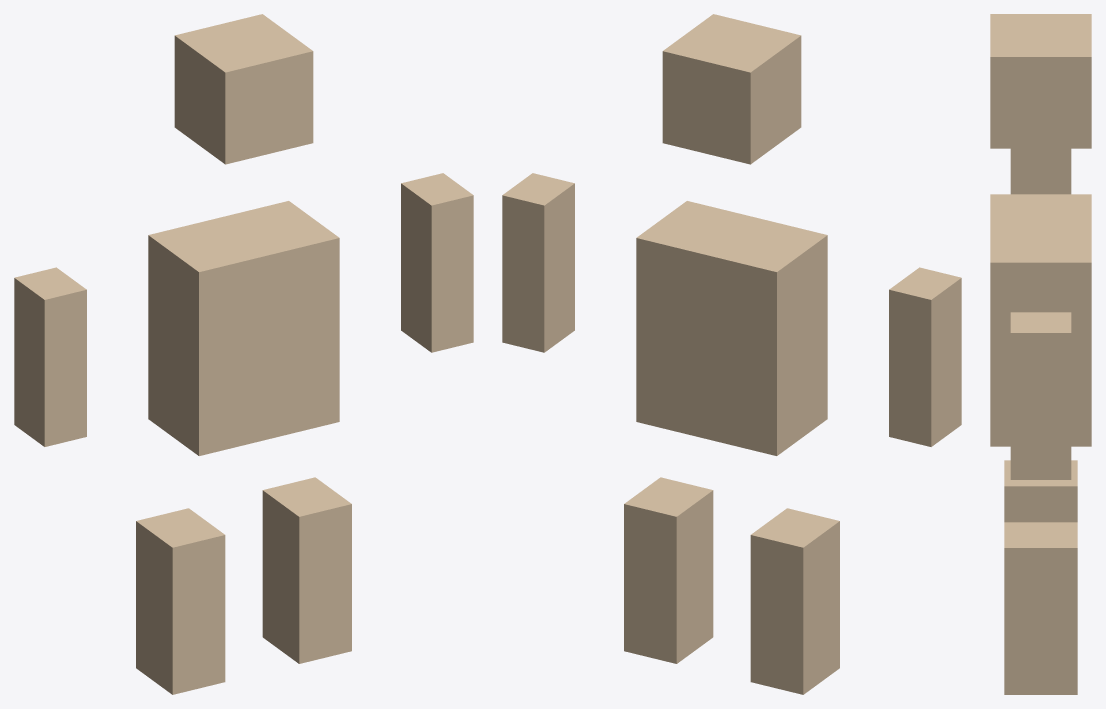
File: PlayerPlaceholder.fbx
3 views of the same model, side by side, from view 1: azimuth 30°, elevation 25°; view 2: azimuth 150°, elevation 25°; view 3: azimuth 270°, elevation 25° (orthographic).
Visible parts, largest first — view 1: PlayerPlaceholder; view 2: PlayerPlaceholder; view 3: PlayerPlaceholder.
Boxes of the visible parts, <box> form: PlayerPlaceholder: <box>14,14,473,694</box>; PlayerPlaceholder: <box>502,14,961,694</box>; PlayerPlaceholder: <box>990,14,1091,694</box>.
Bounding box in the file's own units: 1.22 × 1.67 × 0.25.
